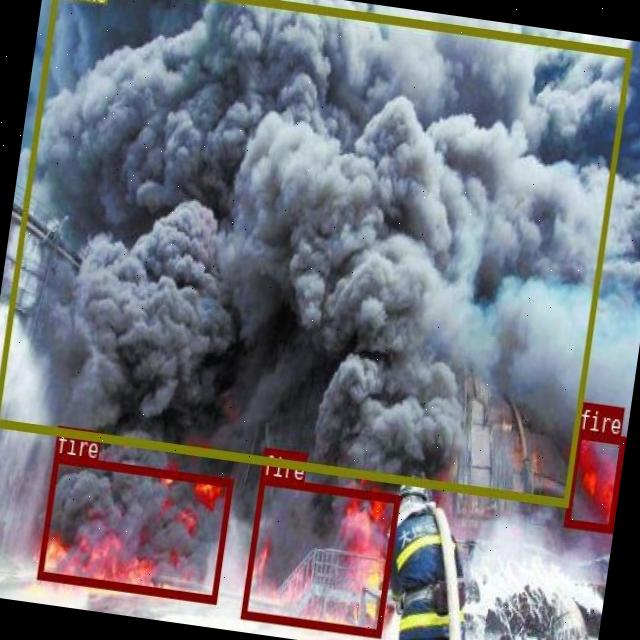fire: (36, 454, 232, 602), (241, 476, 400, 636), (563, 430, 625, 530)
smoke: (0, 0, 631, 506)
